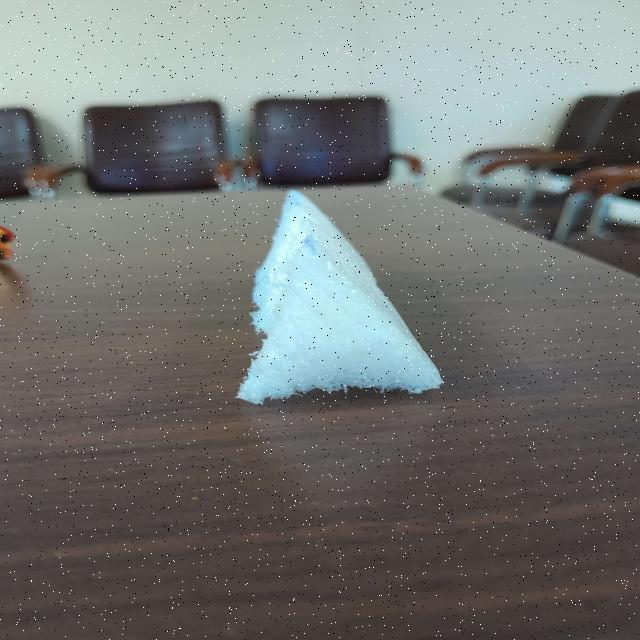wheel: (233, 174, 431, 418)
